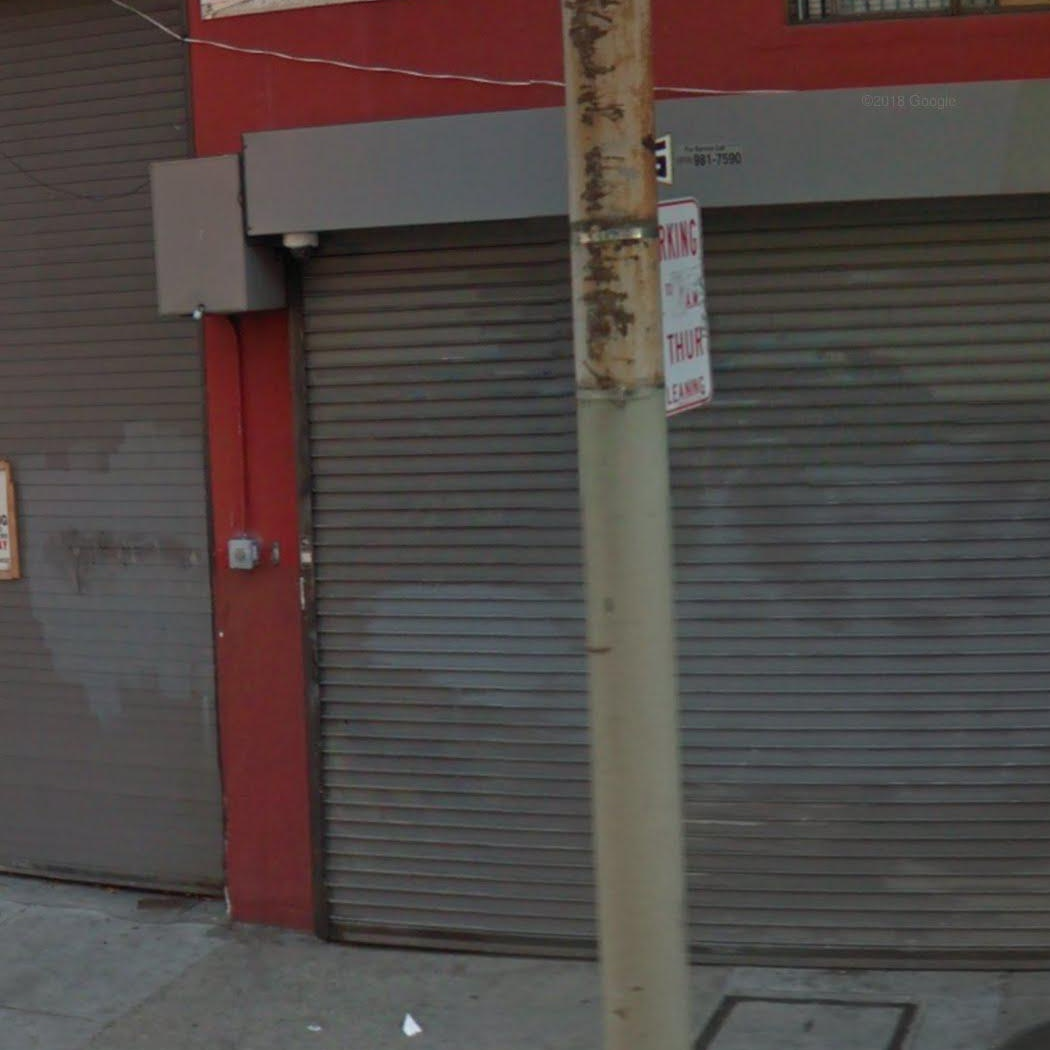No Parking: (653, 200, 715, 415)
